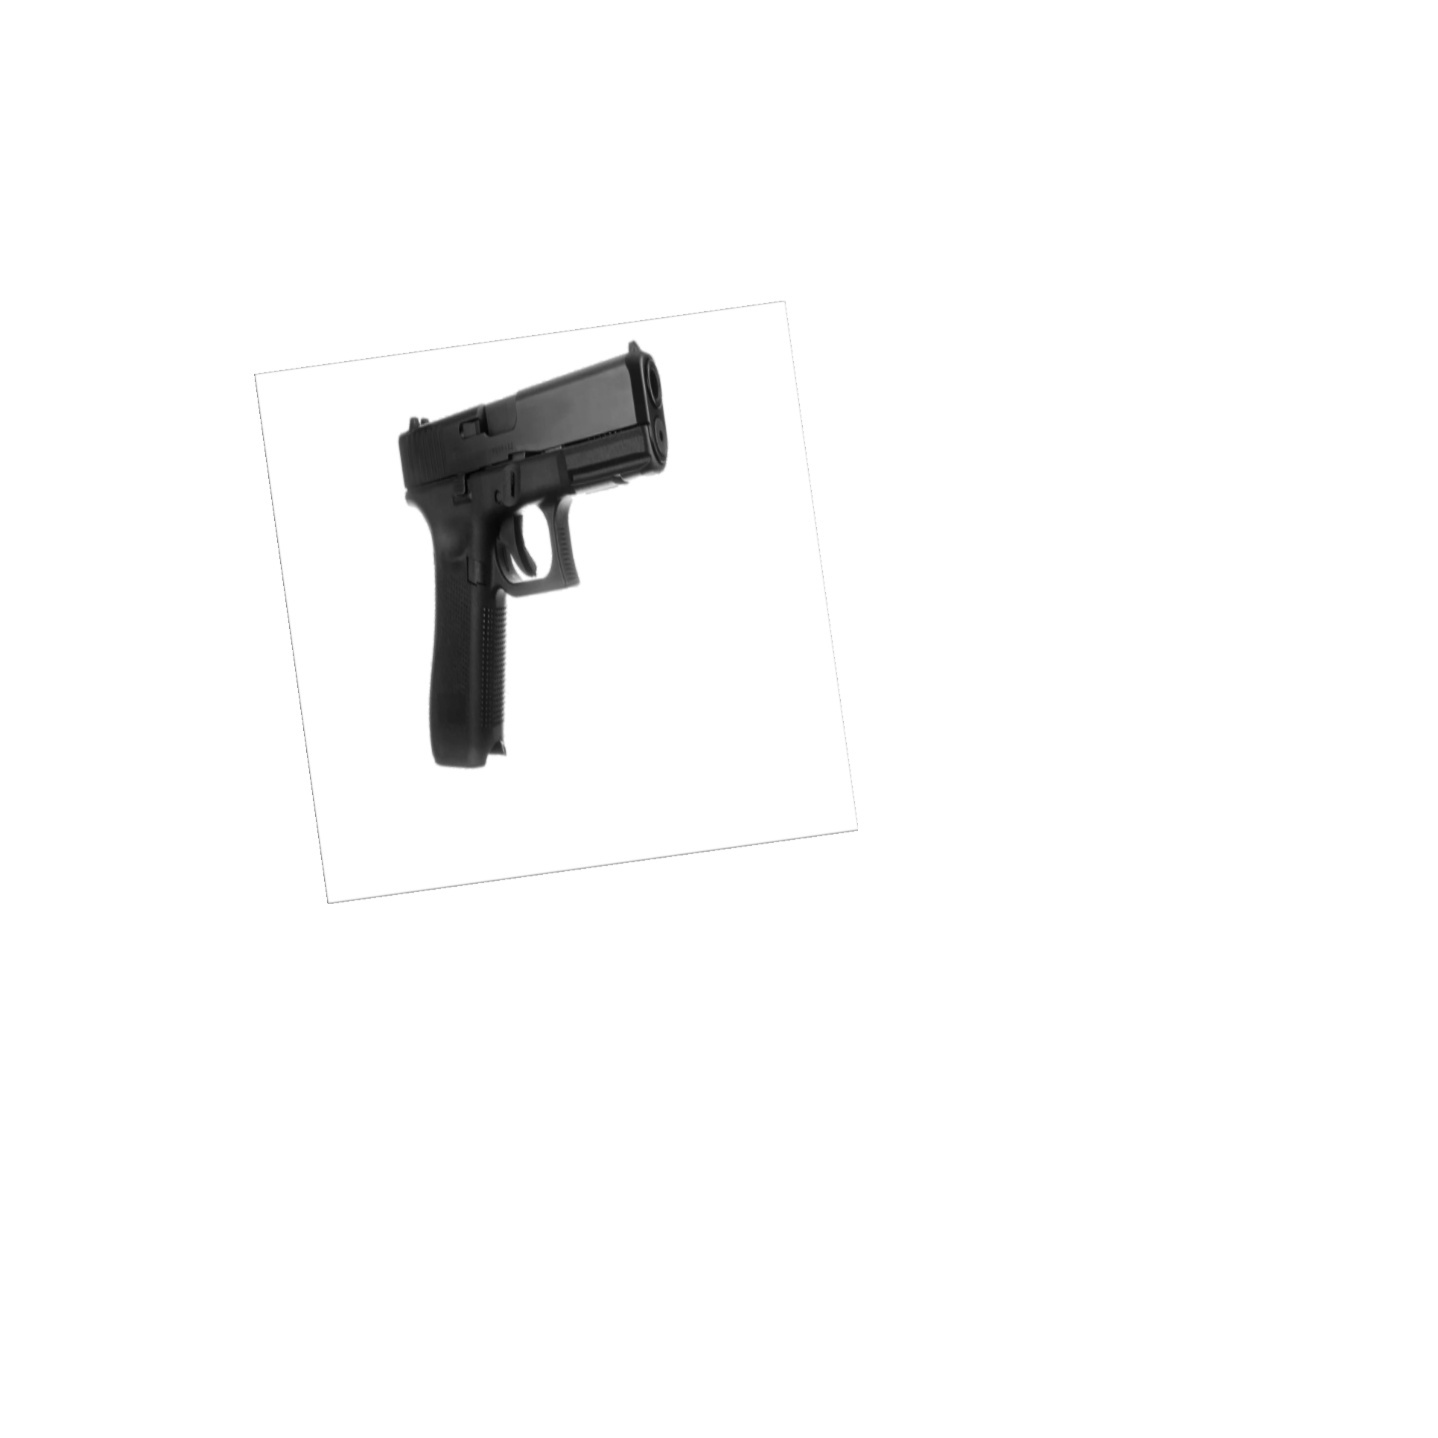gun: (394, 334, 676, 766)
